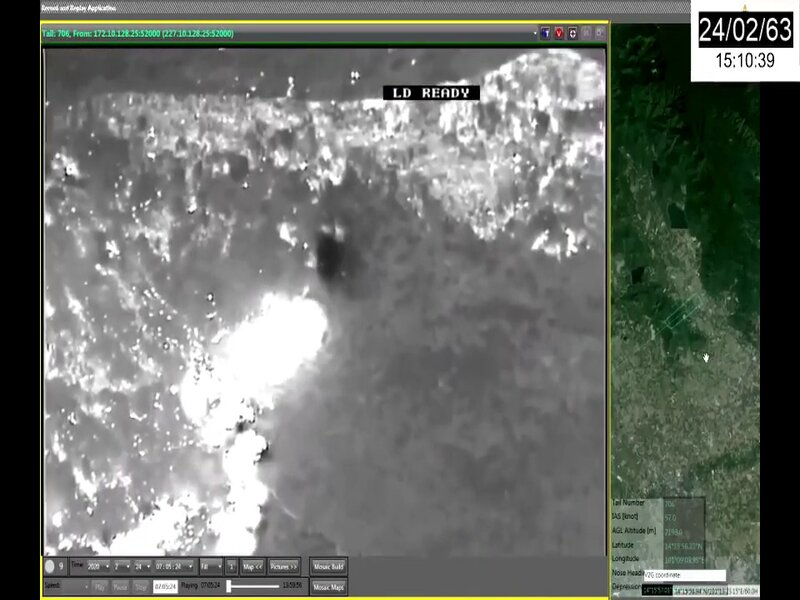Fire: (89, 290, 328, 555)
